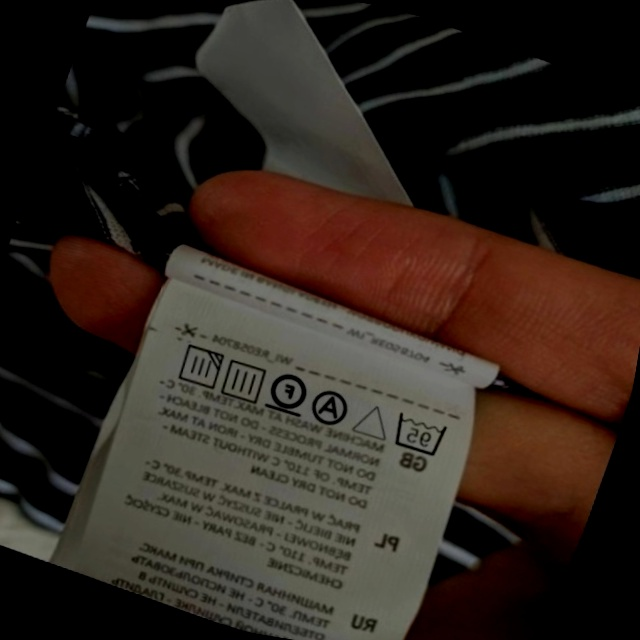95C: (384, 405, 453, 463)
bleach: (349, 393, 398, 447)
drip_dry: (215, 352, 273, 409)
drip_dry_in_shade: (169, 337, 228, 396)
dry_clean: (306, 383, 357, 433)
dry_clean_petrol_only: (261, 362, 315, 421)
